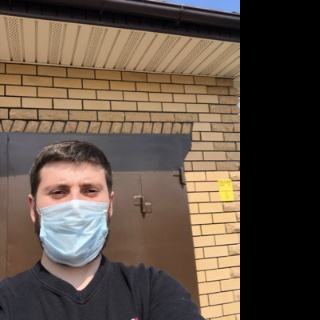with_mask: (36, 172, 110, 268)
